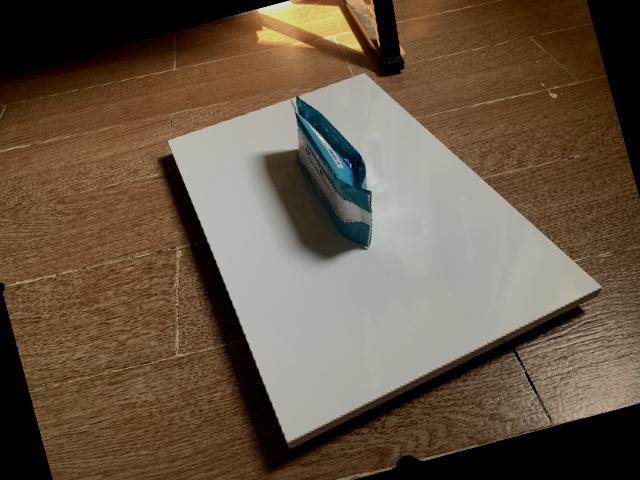Let-green_alcohol_wipes: (291, 95, 373, 248)
